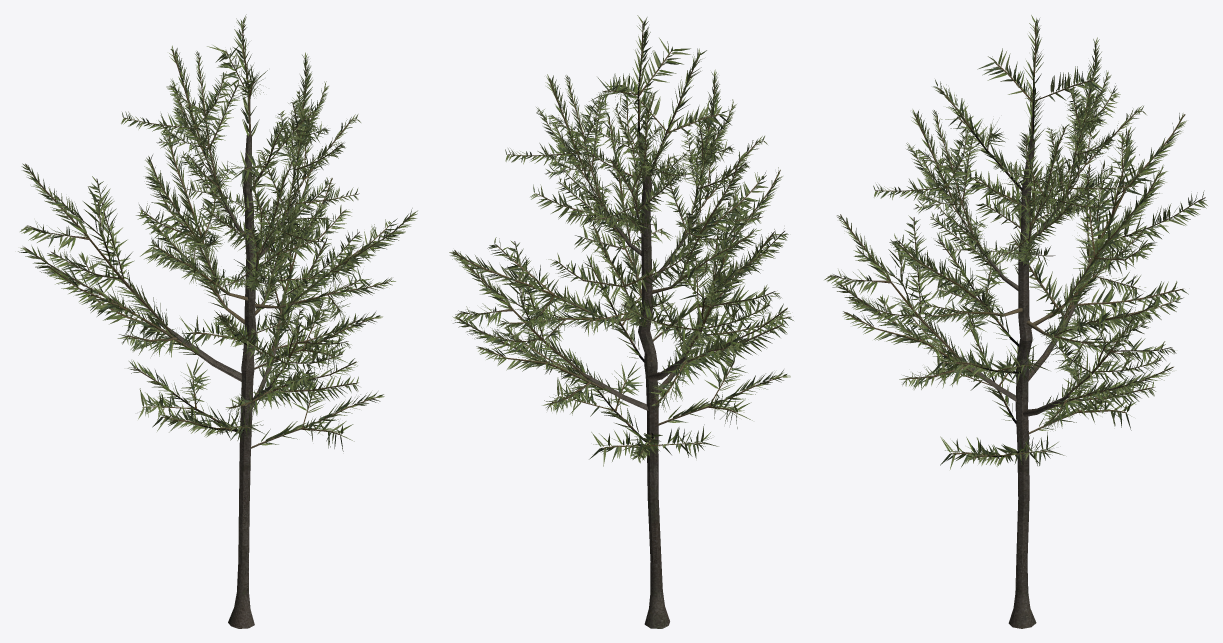
The model's file is pineSaplingSm.gltf.
3 views of the same model, side by side, from view 1: azimuth 30°, elevation 25°; view 2: azimuth 150°, elevation 25°; view 3: azimuth 270°, elevation 25° (orthographic).
Parts seen in each view (by area): view 1: pine_short_01.005, pine_bushy_01.006, pine_short_01.006, pine_bushy_01.005, pine_bushy_01.004, pine_sapling_small, pine_short_01.007, pine_filler_01.008, pine_filler_01.007, pine_filler_01.010, pine_filler_01.009, pine_tiny_01.015 (+6 smaller); view 2: pine_short_01.005, pine_short_01.007, pine_bushy_01.005, pine_bushy_01.006, pine_sapling_small, pine_bushy_01.004, pine_short_01.006, pine_filler_01.009, pine_filler_01.010, pine_filler_01.007, pine_filler_01.008, pine_tiny_01.012 (+6 smaller); view 3: pine_short_01.005, pine_short_01.006, pine_bushy_01.004, pine_short_01.007, pine_bushy_01.005, pine_sapling_small, pine_bushy_01.006, pine_filler_01.010, pine_filler_01.008, pine_filler_01.009, pine_tiny_01.012, pine_filler_01.007 (+6 smaller).
Part boxes in pixels (box(x1,y1,x2,y2)): pine_short_01.005: box(18, 163, 241, 381); pine_bushy_01.006: box(121, 45, 244, 237); pine_short_01.006: box(219, 300, 359, 416); pine_bushy_01.005: box(256, 52, 360, 259); pine_bushy_01.004: box(198, 159, 327, 293); pine_sapling_small: box(228, 134, 256, 628); pine_short_01.007: box(214, 178, 367, 407); pine_filler_01.008: box(255, 208, 417, 321); pine_filler_01.007: box(140, 155, 248, 300); pine_filler_01.010: box(136, 127, 244, 324); pine_filler_01.009: box(206, 159, 351, 315); pine_tiny_01.015: box(127, 357, 235, 433); pine_short_01.005: box(619, 260, 790, 411); pine_short_01.007: box(452, 240, 648, 413); pine_bushy_01.005: box(505, 74, 641, 255); pine_bushy_01.006: box(567, 90, 689, 237); pine_sapling_small: box(637, 132, 669, 628); pine_bushy_01.004: box(652, 69, 767, 282); pine_short_01.006: box(653, 167, 793, 395); pine_filler_01.009: box(449, 237, 640, 351); pine_filler_01.010: box(548, 218, 699, 336); pine_filler_01.007: box(651, 151, 767, 293); pine_filler_01.008: box(530, 110, 678, 295); pine_tiny_01.012: box(589, 15, 690, 136); pine_short_01.005: box(1006, 113, 1207, 381); pine_short_01.006: box(824, 214, 1016, 401); pine_bushy_01.004: box(873, 109, 1018, 290); pine_short_01.007: box(1023, 309, 1176, 429); pine_bushy_01.005: box(971, 124, 1103, 267); pine_sapling_small: box(1008, 139, 1036, 628); pine_bushy_01.006: box(1030, 37, 1146, 238); pine_filler_01.010: box(1031, 164, 1167, 328); pine_filler_01.008: box(889, 233, 1022, 341); pine_filler_01.009: box(1026, 292, 1183, 380); pine_tiny_01.012: box(977, 15, 1105, 143); pine_filler_01.007: box(937, 91, 1090, 274).
Size of what is drawn, in the model's own units: 1.93 by 3.44 by 1.97.
Materials: 1 (1 with a texture image).
